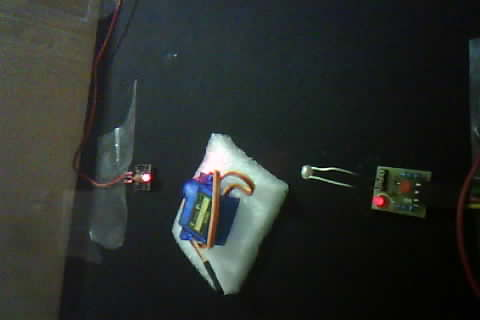motor: (164, 140, 279, 286)
